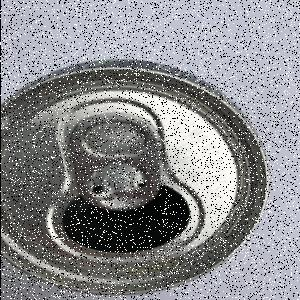Can: (2, 59, 271, 297)
